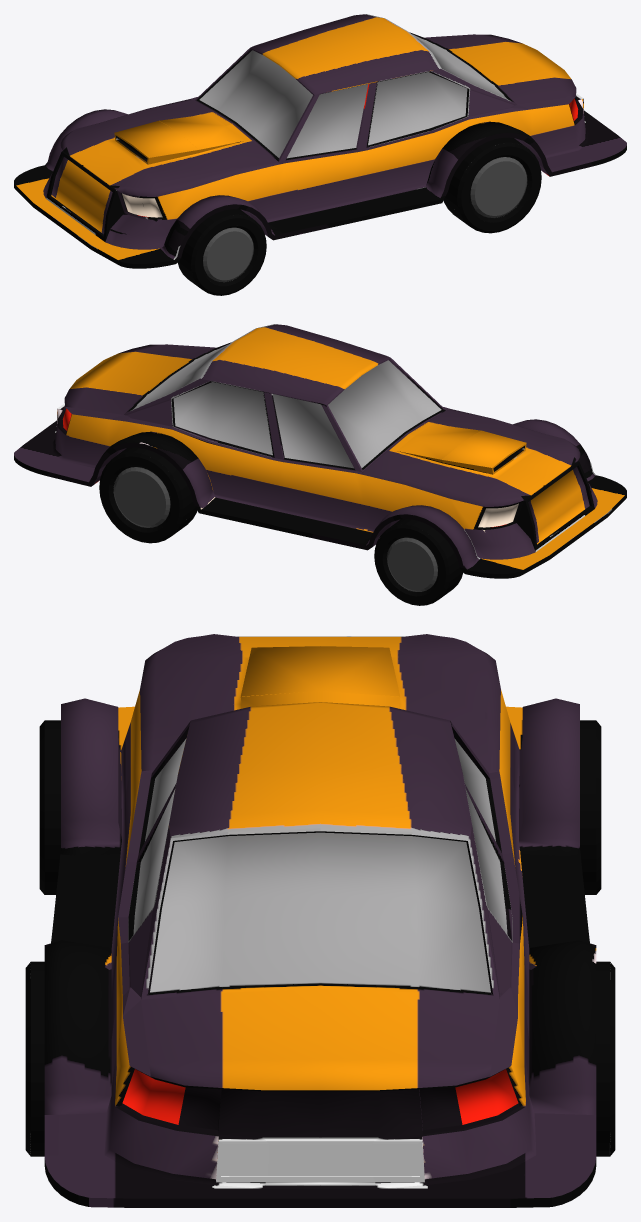
File: carro.gltf
3 views of the same model, one above another, from view 1: azimuth 30°, elevation 25°; view 2: azimuth 150°, elevation 25°; view 3: azimuth 270°, elevation 25° (orthographic). The views are drawn at different scales.
Visible parts, largest first — view 1: fuedafl; view 2: fuedafl; view 3: fuedafl.
Part boxes in pixels (left/top/right/bottom): fuedafl: left=14, top=14, right=626, bottom=295; fuedafl: left=14, top=324, right=626, bottom=605; fuedafl: left=25, top=634, right=615, bottom=1207.
Bounding box in the file's own units: 3.42 × 1 × 1.72.
2 materials, 2 textured.
